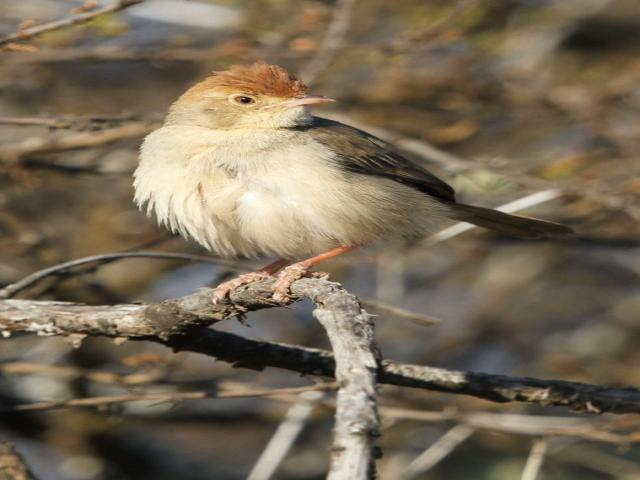Bird: (129, 60, 579, 309)
